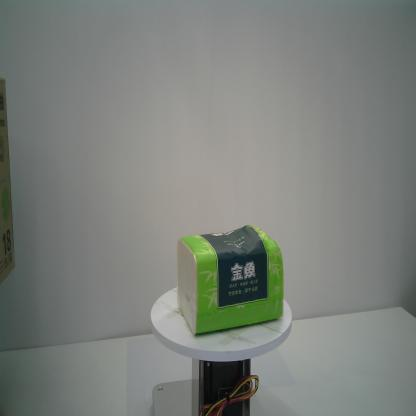Tissue: (176, 224, 284, 335)
